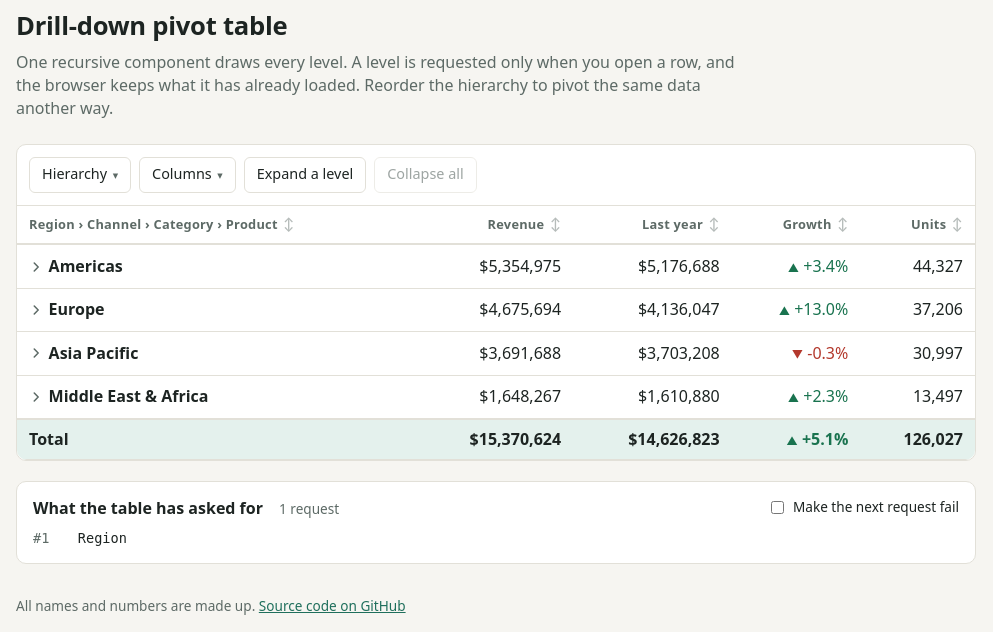
Test: the demo page › pivots when the hierarchy is reordered
Expected: the button "Americas" is shown, [25,254,127,280]
What coordinates should you click on to do the following:
click the button "Hierarchy ▾"
I would click on:
 (80, 175)
Its box is [29,157,131,193].
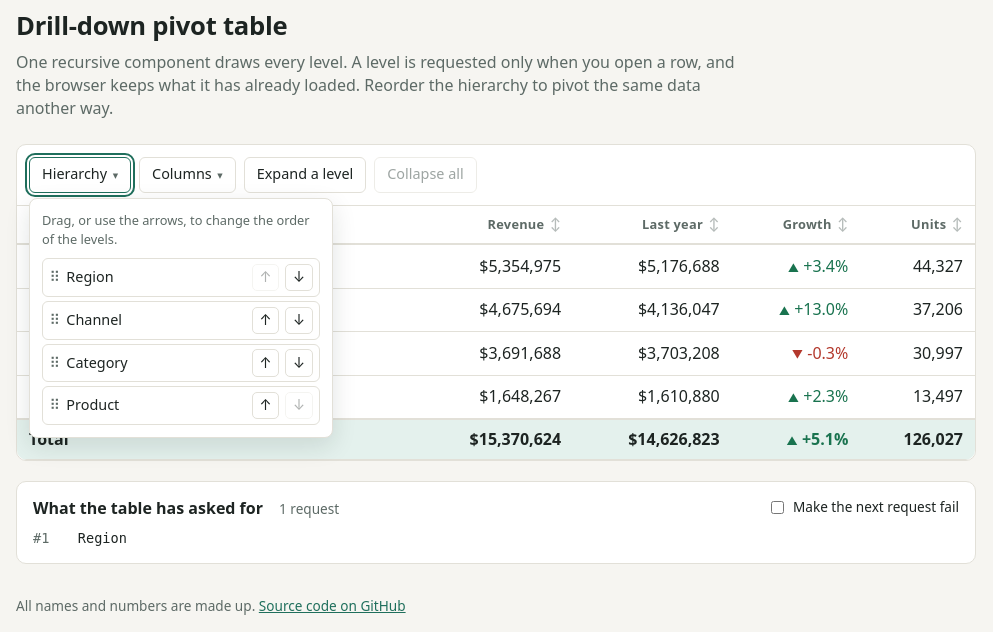
What coordinates should you click on to do the following:
click the button named "Move Channel up"
I would click on:
 (265, 320)
Its box is [252,307,279,334].
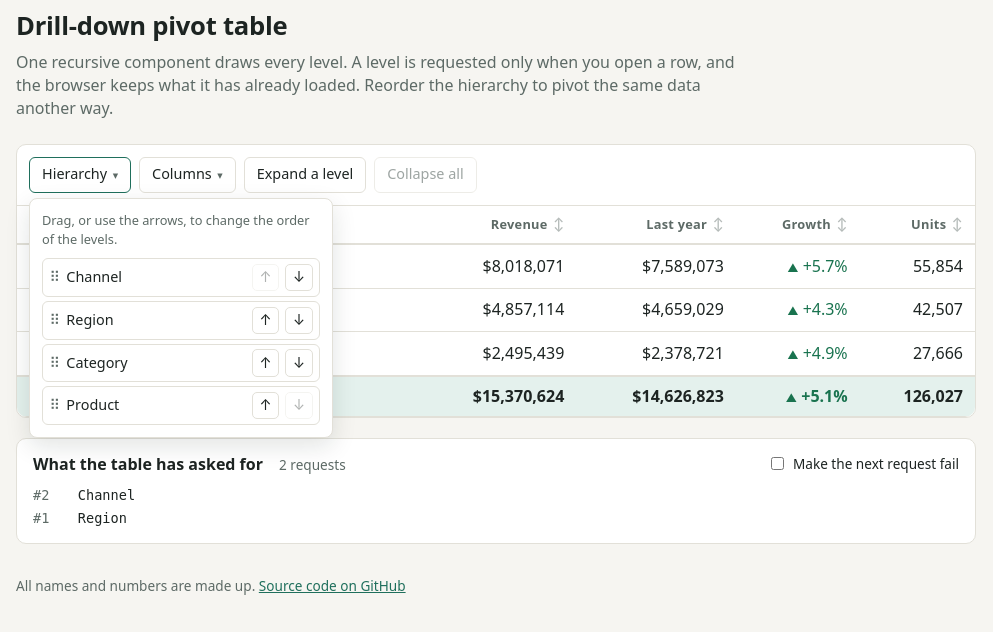
Now the button "Online store" is shown, box [25,254,151,280]
Now the button "Americas" is gone
